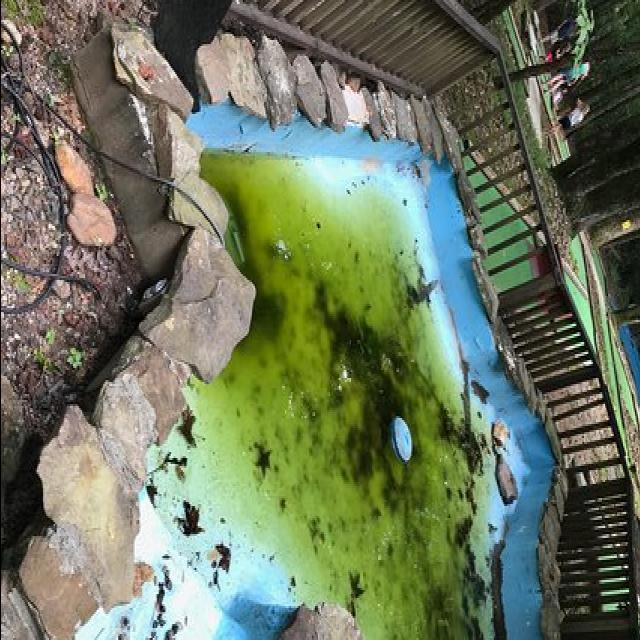Breeding Place: (36, 84, 568, 640)
